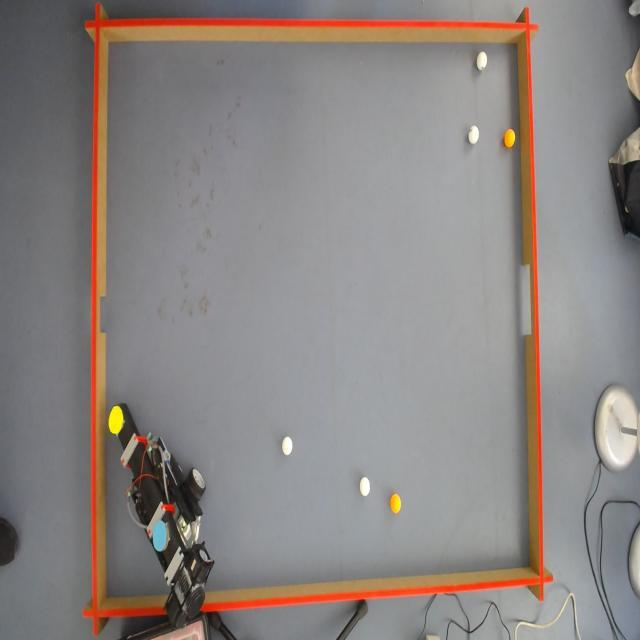orange: (504, 128, 516, 148), (390, 496, 402, 514)
robot: (104, 402, 210, 630)
robot-front: (110, 405, 128, 432)
robot-rear: (152, 520, 170, 553)
white: (476, 52, 489, 72), (280, 436, 292, 456), (361, 476, 372, 497), (470, 124, 480, 143)
